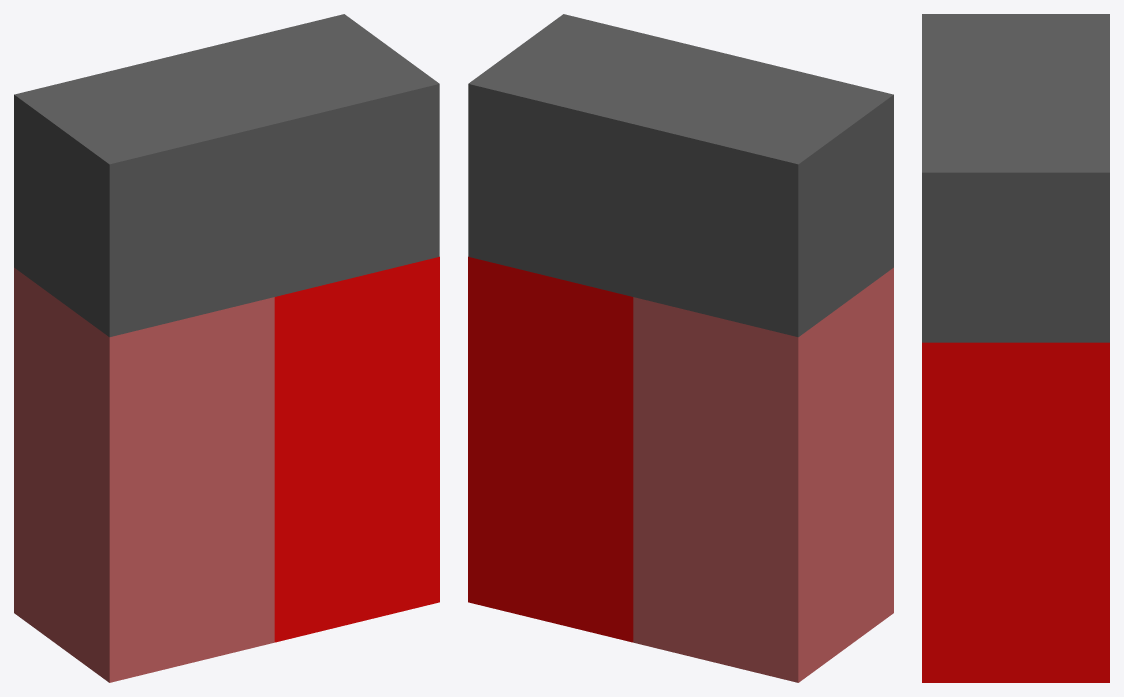
File: 164_mood_licky.glb
3 views of the same model, side by side, from view 1: azimuth 30°, elevation 25°; view 2: azimuth 150°, elevation 25°; view 3: azimuth 270°, elevation 25° (orthographic).
Size of the model in its own units: 2 by 3 by 1.
